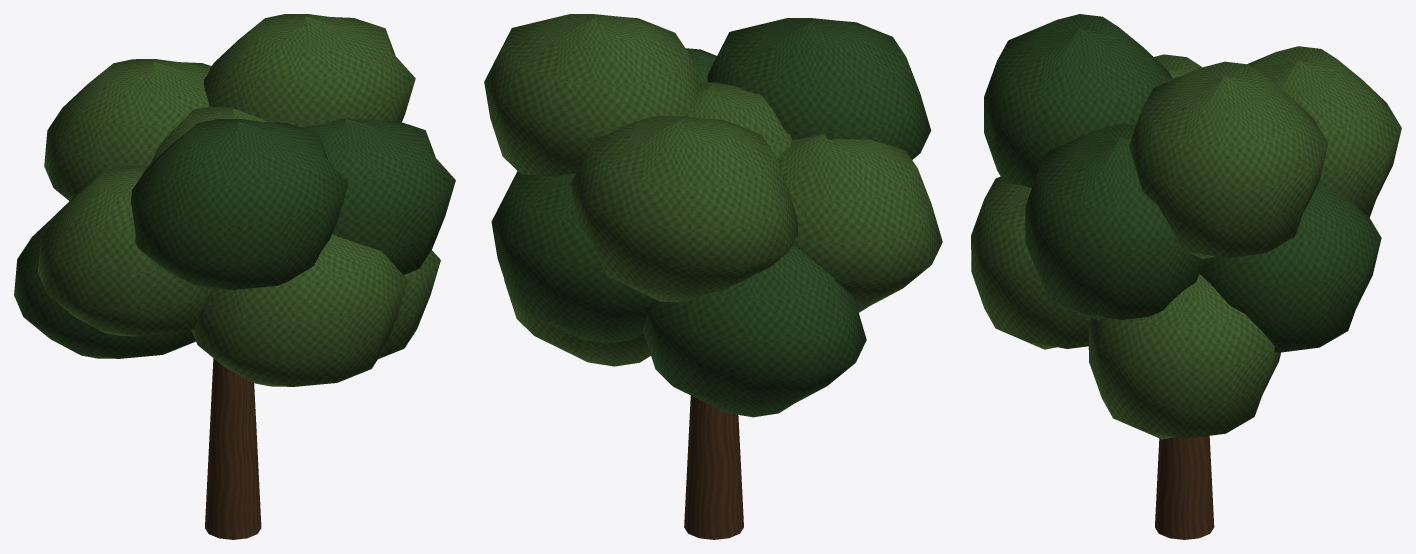
Rendered from oak.glb.
3 views of the same model, side by side, from view 1: azimuth 30°, elevation 25°; view 2: azimuth 150°, elevation 25°; view 3: azimuth 270°, elevation 25° (orthographic). The views are drawn at different scales.
Parts seen in each view (by area): view 1: oak; view 2: oak; view 3: oak.
Part boxes in pixels (x1,y1,x2,y2): oak: (14, 14, 455, 539); oak: (484, 14, 942, 539); oak: (971, 14, 1401, 539).
Size of the model in its own units: 5.36 by 6.3 by 4.93.
3 materials, 3 textured.
